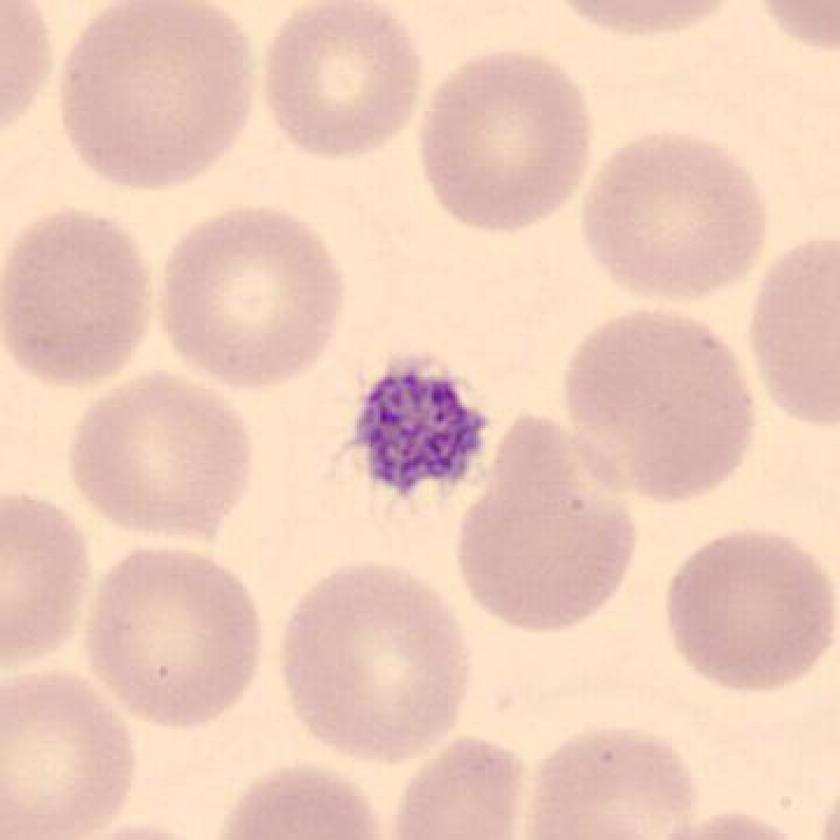platelets: (344, 353, 493, 508)
